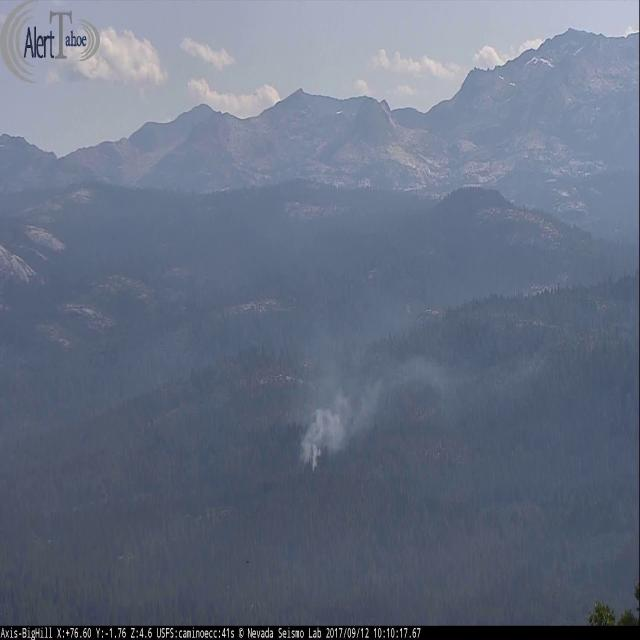smoke: (236, 237, 554, 473)
